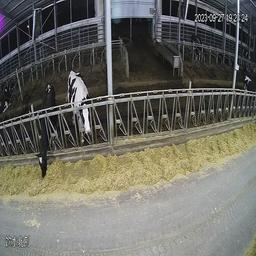cow: (64, 65, 106, 162), (29, 77, 59, 190), (242, 68, 255, 122), (0, 76, 15, 114)
